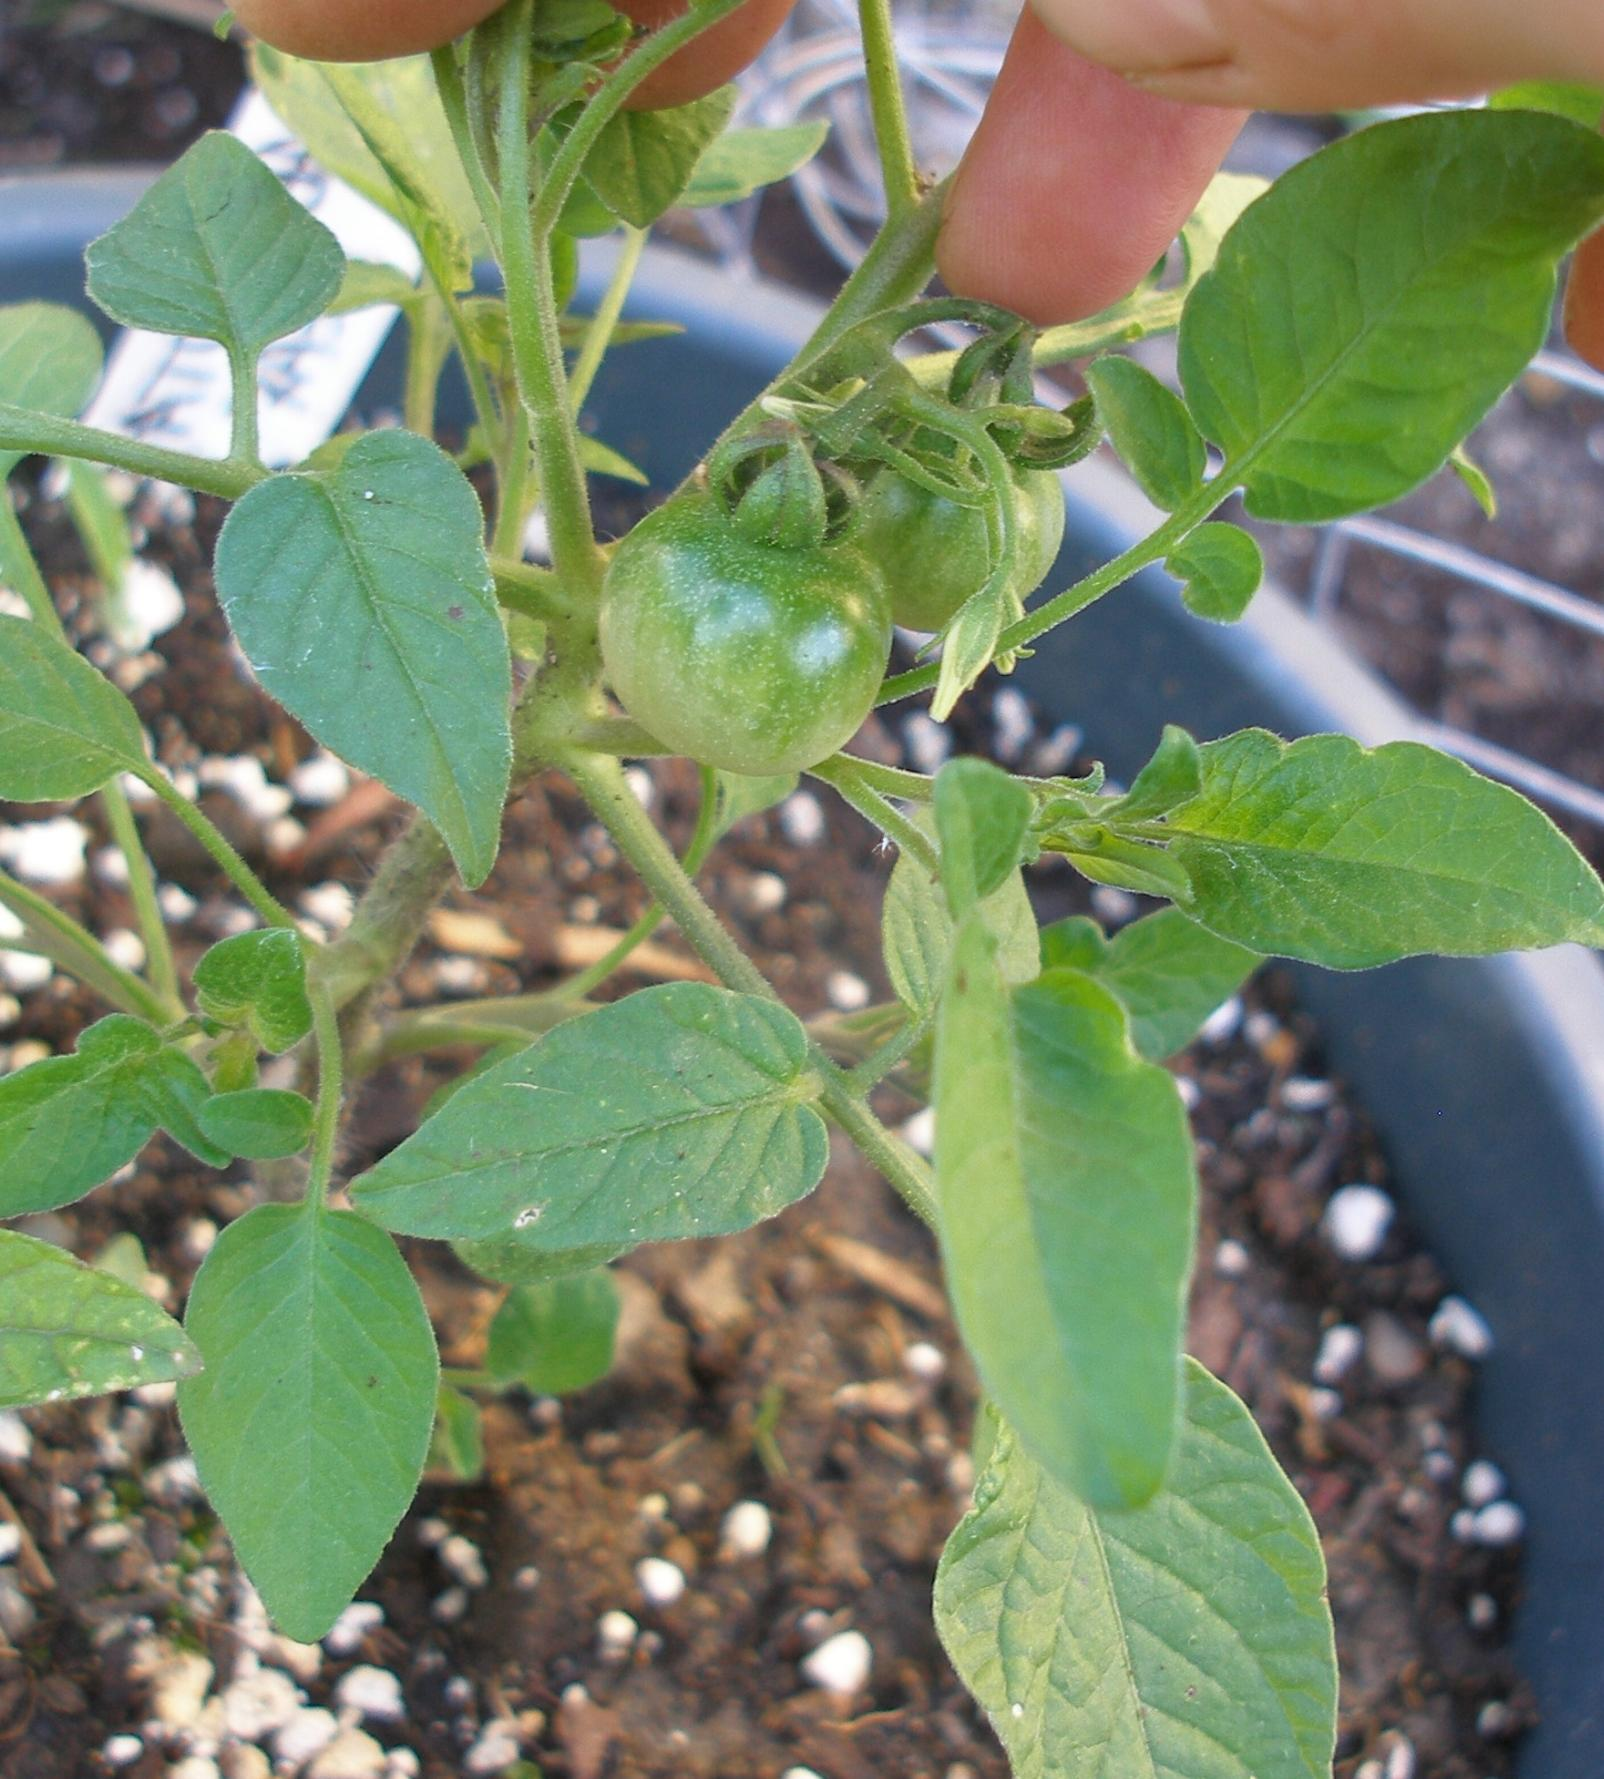Tomato leaf: (813, 1311, 1424, 1779), (1124, 59, 1604, 613), (339, 951, 883, 1332), (139, 1171, 478, 1691), (163, 424, 585, 841), (937, 958, 1209, 1559), (1215, 636, 1604, 1047), (0, 974, 274, 1243)
